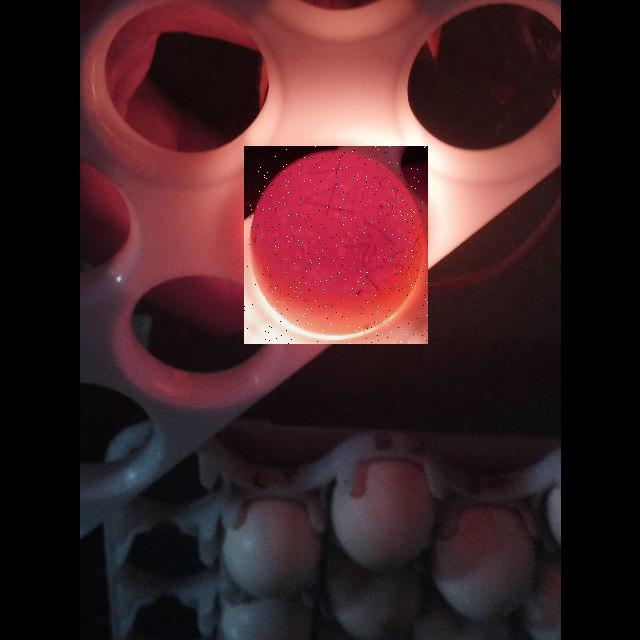Infertile: (244, 146, 428, 344)
